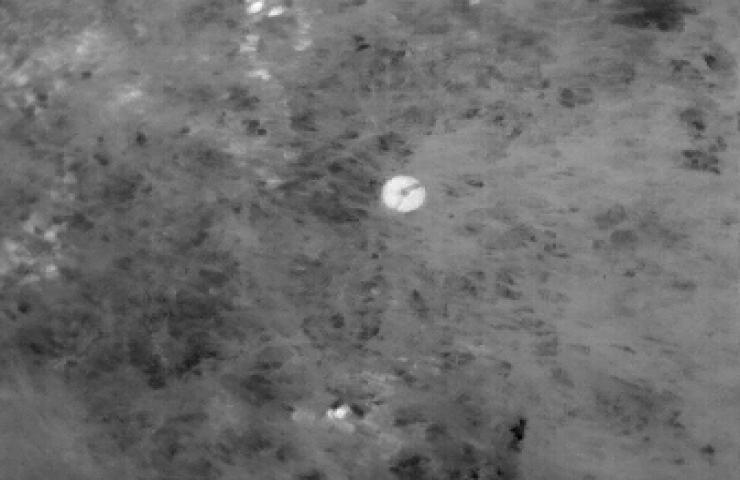landmines: (379, 172, 429, 216)
